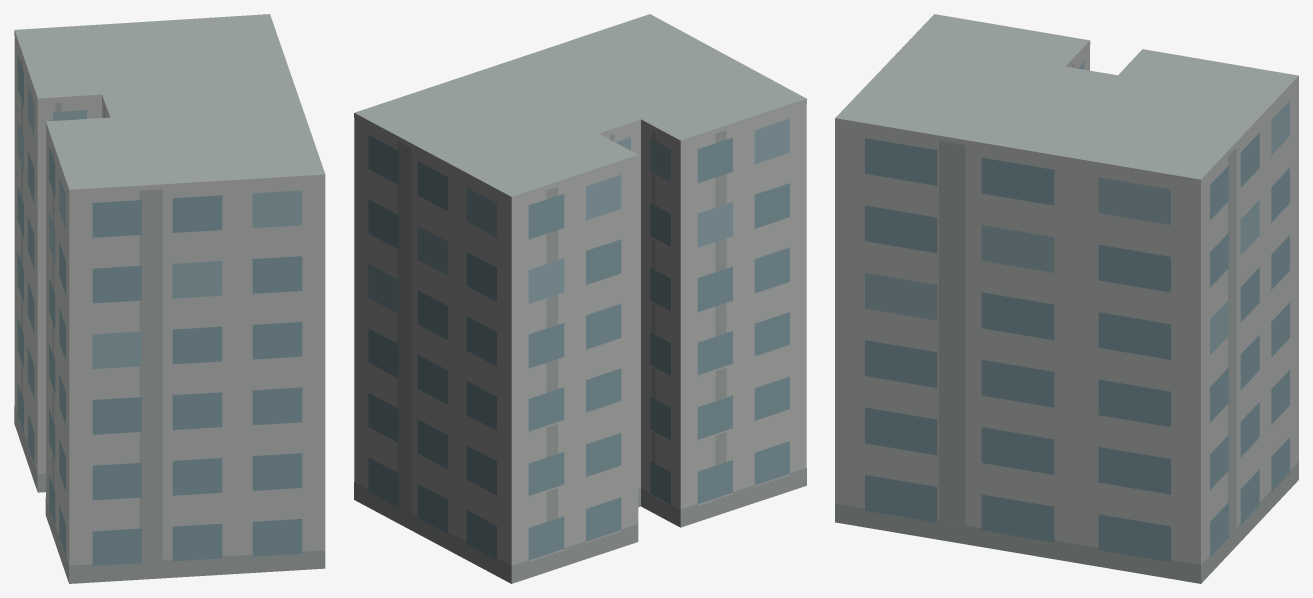
The model's file is survey-upis-32938276.glb.
3 renders of one model, left to right at view 1: azimuth 30°, elevation 25°; view 2: azimuth 150°, elevation 25°; view 3: azimuth 270°, elevation 25°, orthographic. The views are drawn at different scales.
Parts seen in each view (by area): view 1: survey-upis-32938276.tmp; view 2: survey-upis-32938276.tmp; view 3: survey-upis-32938276.tmp.
Boxes of the visible parts, left/top/right/bottom form: survey-upis-32938276.tmp: left=14, top=14, right=325, bottom=583; survey-upis-32938276.tmp: left=354, top=14, right=806, bottom=583; survey-upis-32938276.tmp: left=835, top=14, right=1298, bottom=583.
Size of the model in its own units: 16.44 by 18.7 by 19.45.
